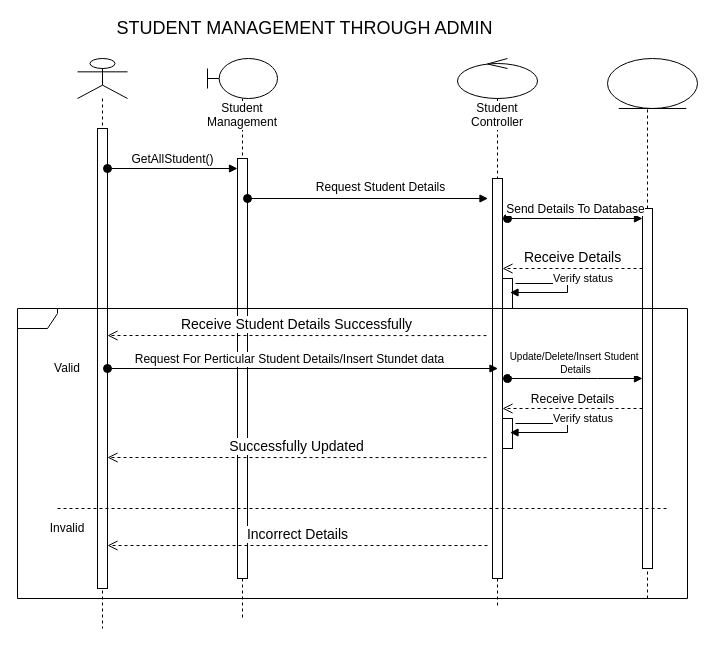
Some shapes in this 715 by 646 pixel diagram are drawn without their labels. The shapes that lost their labels are listed below. From the top down, each one's centre as x and y in pixels, then its label:
(x=652, y=83): User database
(x=352, y=453): Alt
